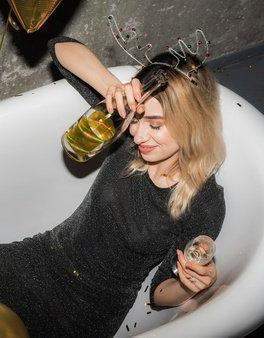Drunk: (123, 95, 176, 165)
